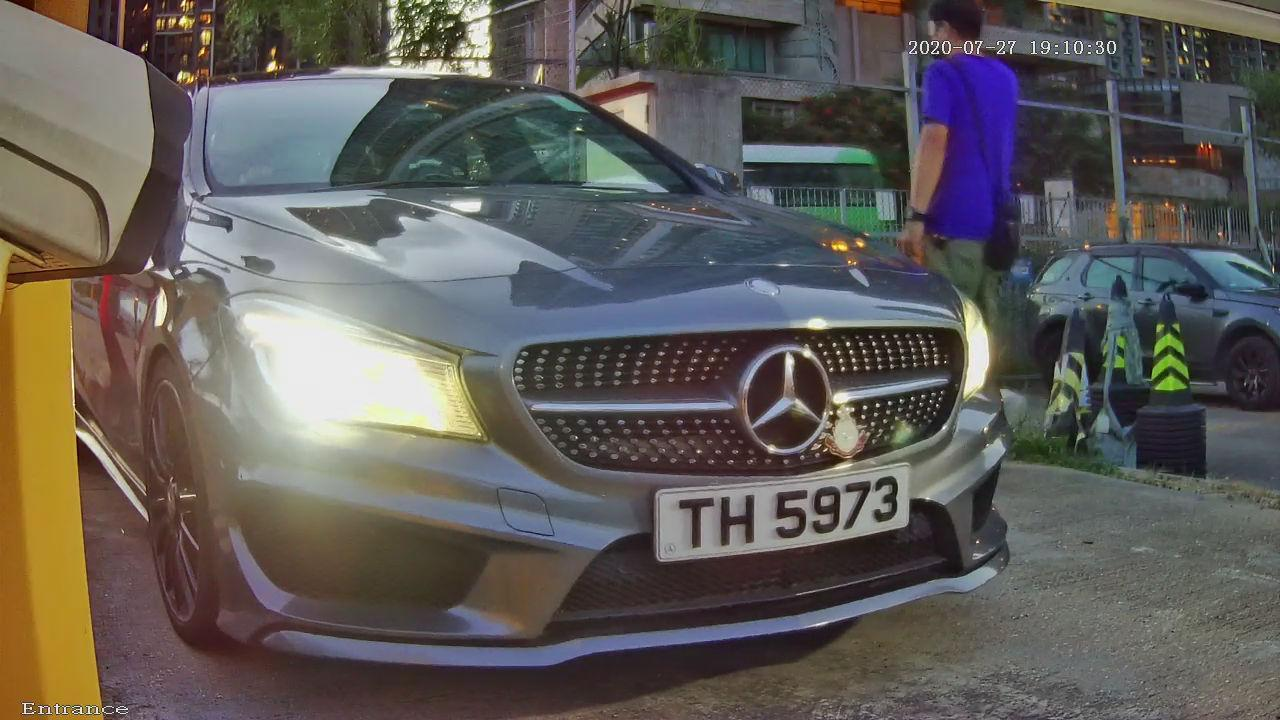privatecar: (115, 20, 1058, 663)
